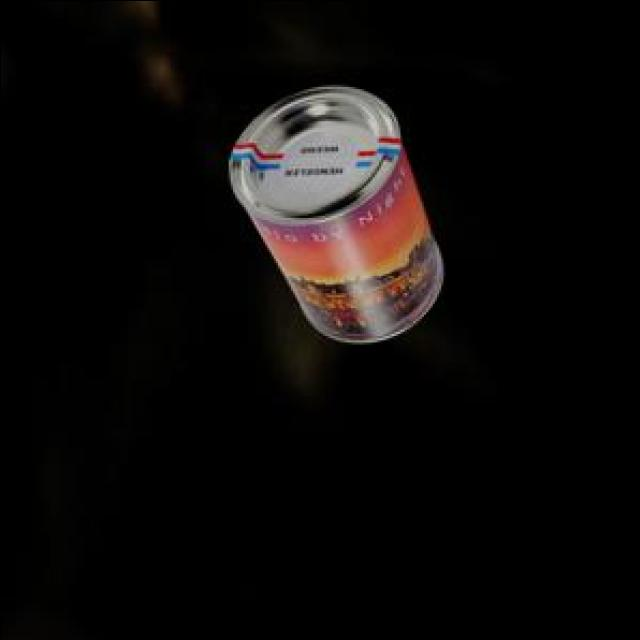logam: (227, 83, 439, 338)
